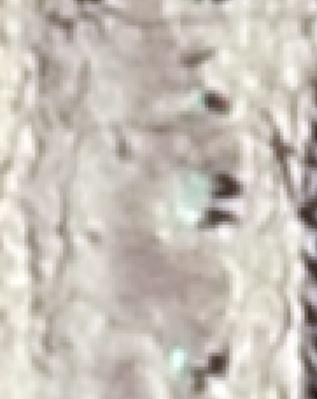cotton: (187, 177, 207, 210), (170, 346, 187, 374)
